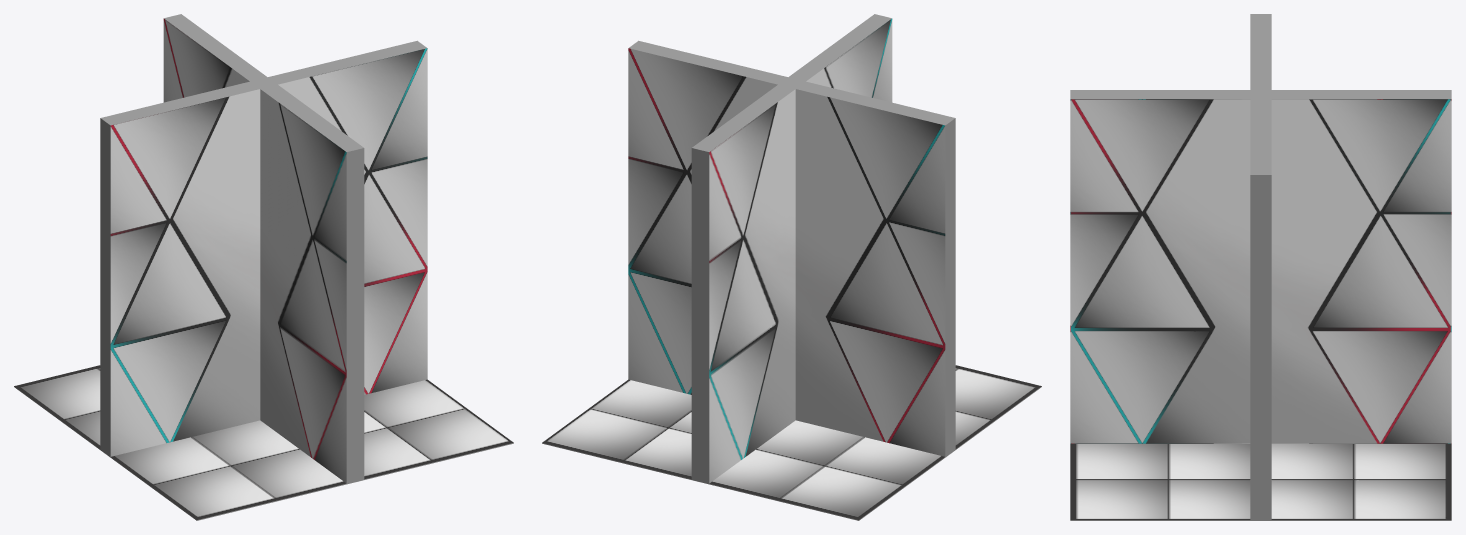
File: crosswall.fbx
3 views of the same model, side by side, from view 1: azimuth 30°, elevation 25°; view 2: azimuth 150°, elevation 25°; view 3: azimuth 270°, elevation 25° (orthographic). The views are drawn at different scales.
Visible parts, largest first — view 1: polySurface588; view 2: polySurface588; view 3: polySurface588.
Boxes of the visible parts, x1,y1,x2,y2 form: polySurface588: (14, 14, 513, 520); polySurface588: (542, 14, 1041, 520); polySurface588: (1070, 14, 1451, 520).
Bounding box in the file's own units: 2 × 2 × 2.
